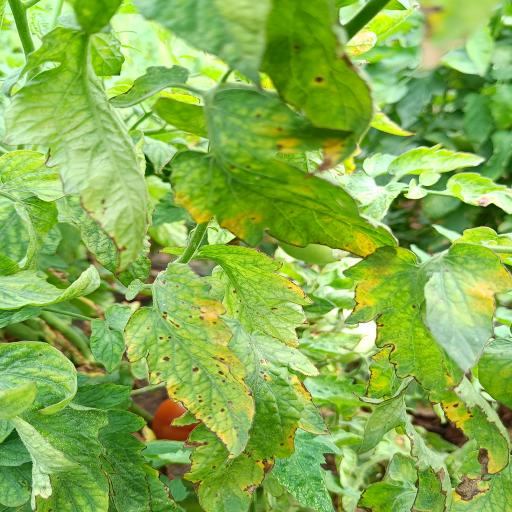Early Blight: (341, 243, 512, 481), (165, 87, 398, 257), (179, 330, 331, 512), (121, 262, 259, 462)
